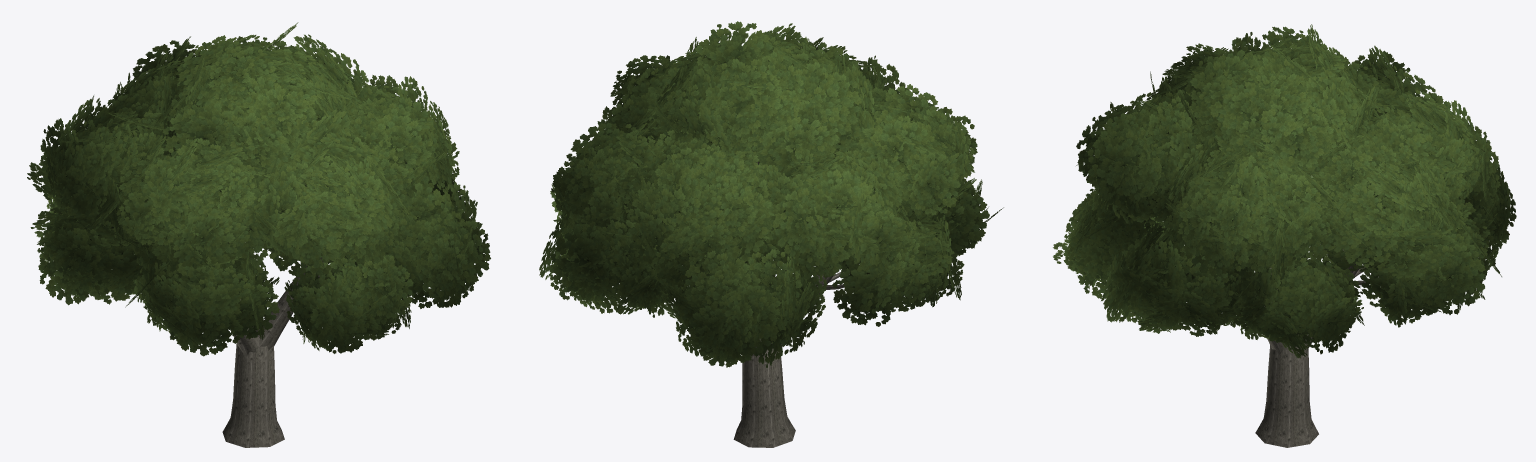
The model's file is tree-plane.glb.
3 views of the same model, side by side, from view 1: azimuth 30°, elevation 25°; view 2: azimuth 150°, elevation 25°; view 3: azimuth 270°, elevation 25° (orthographic).
Visible parts, largest first — view 1: tree-plane; view 2: tree-plane; view 3: tree-plane.
Boxes of the visible parts, box(x1,y1,x2,y2) form: tree-plane: box(27, 22, 490, 447); tree-plane: box(539, 21, 1003, 447); tree-plane: box(1053, 24, 1516, 447).
Bounding box in the file's own units: 16.63 × 15.32 × 16.43.
Materials: 2 (2 with a texture image).
